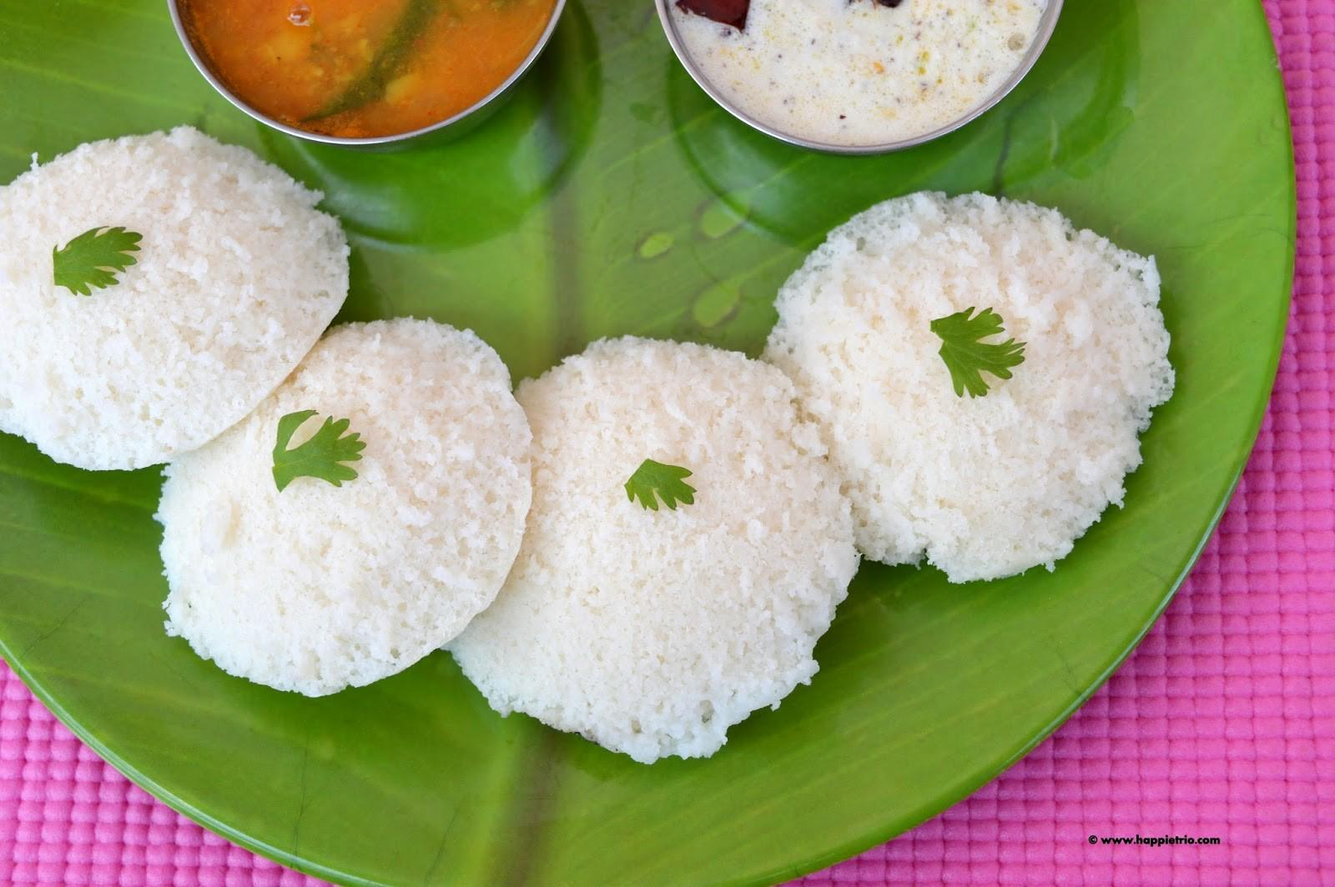Idli: (452, 335, 858, 755), (756, 190, 1173, 585), (156, 315, 532, 700), (0, 120, 355, 472)
